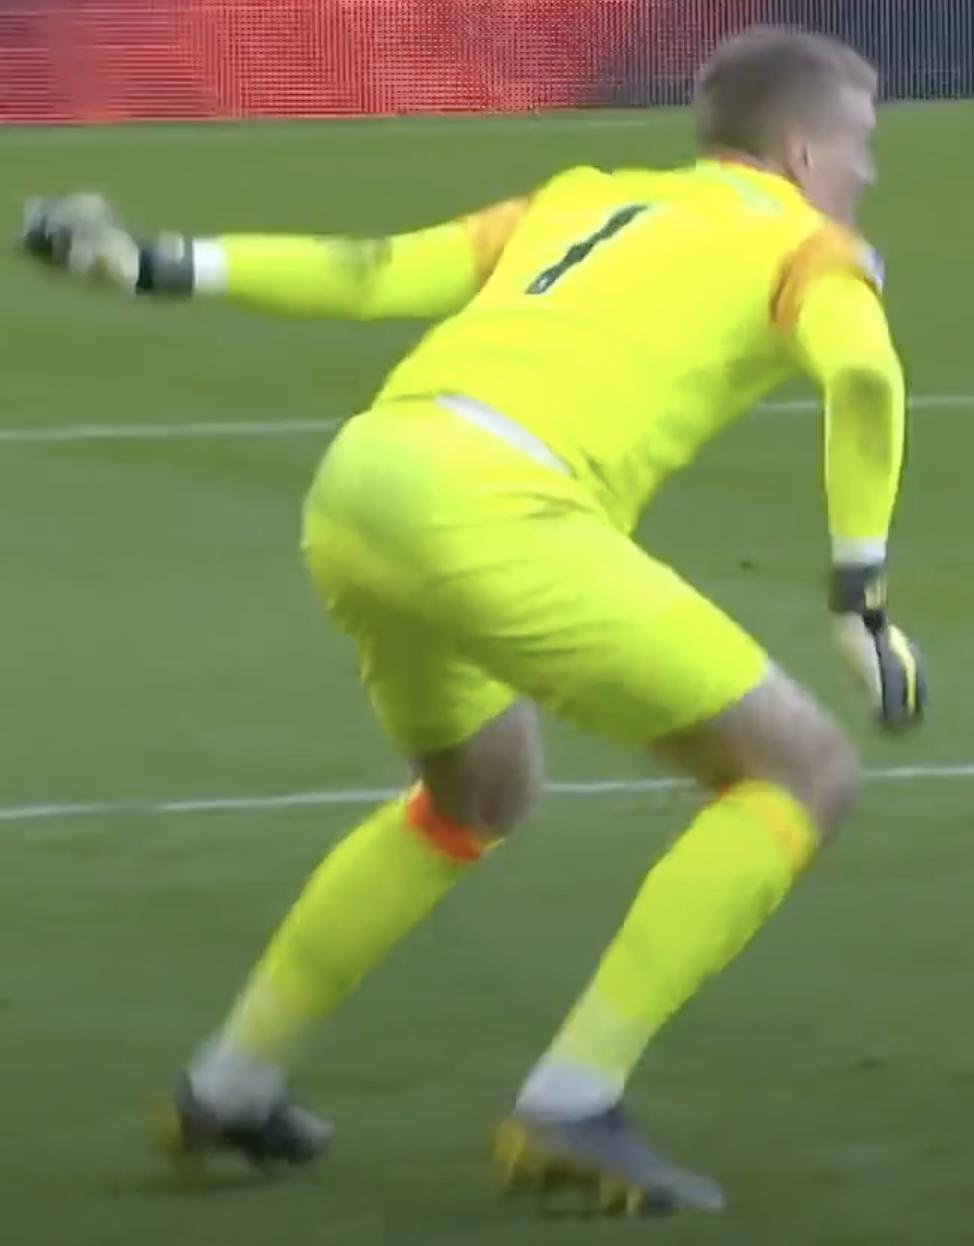goalkeeper: (3, 15, 974, 1246)
